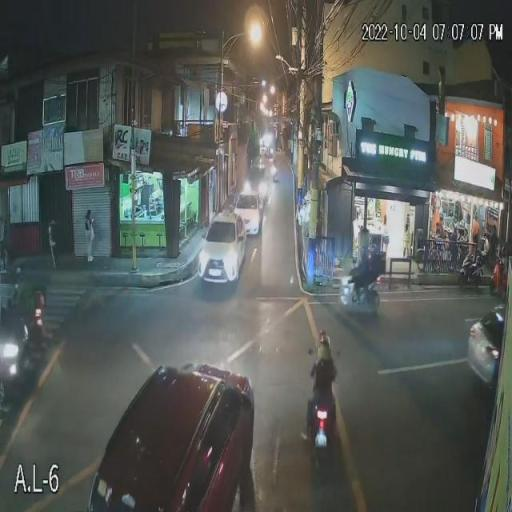helmet: (313, 334, 337, 360)
motorcycle: (301, 402, 341, 472)
rider: (312, 330, 334, 415)
